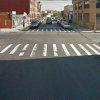Crosswalk: (10, 34, 100, 74)
